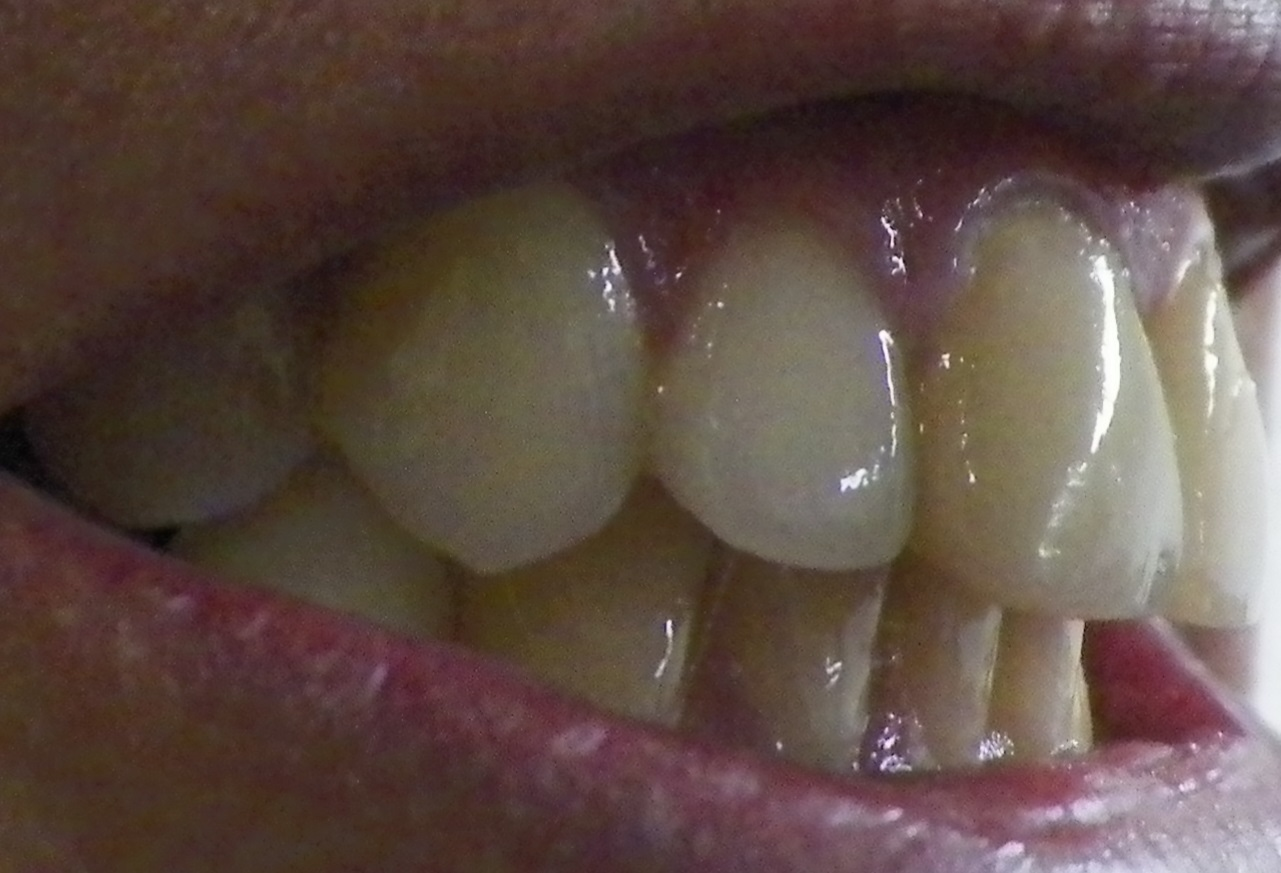boca: (35, 182, 1273, 765)
